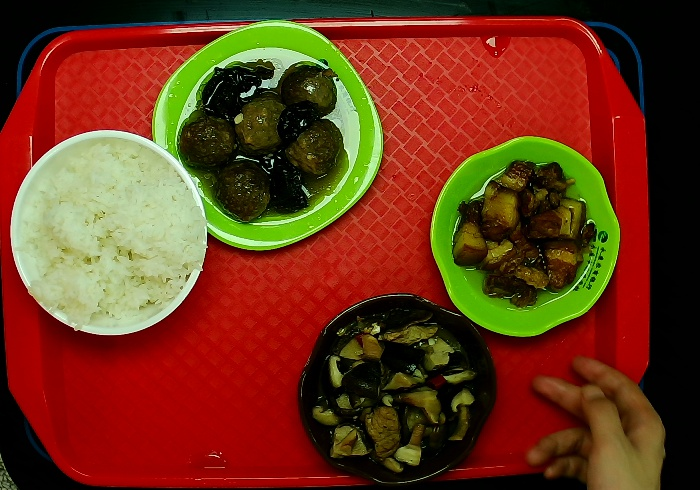YKMZ-Fan_Wan: (4, 127, 205, 335)
YKMZ-Ka_Fei_Ao_Bian_Wan: (300, 291, 505, 490)
YKMZ-Lv_Se_Ao_Bian_Wan: (429, 129, 622, 336)
YKMZ-Lv_Se_Fang_Die: (153, 12, 385, 252)
